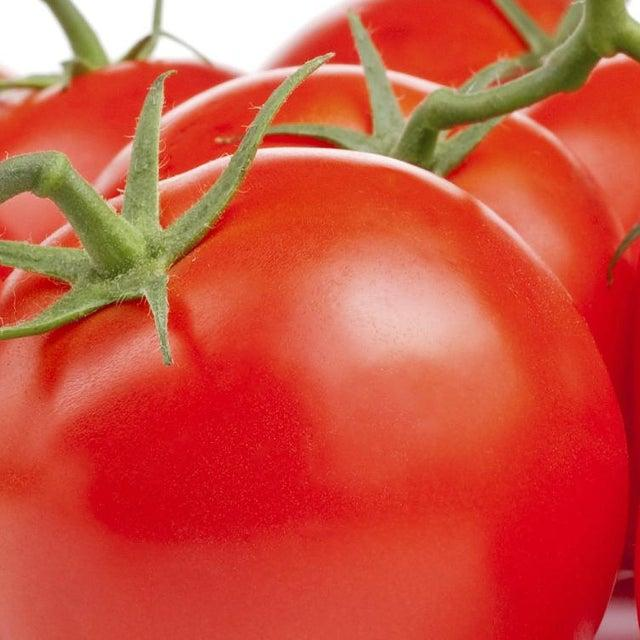tomato: (0, 135, 628, 640), (445, 117, 617, 319), (0, 63, 233, 183), (274, 0, 529, 85), (522, 58, 640, 233), (163, 70, 289, 171), (264, 65, 367, 147), (159, 158, 227, 222), (0, 275, 64, 320), (0, 204, 64, 240), (515, 0, 572, 29), (389, 73, 434, 106), (45, 226, 77, 252)
